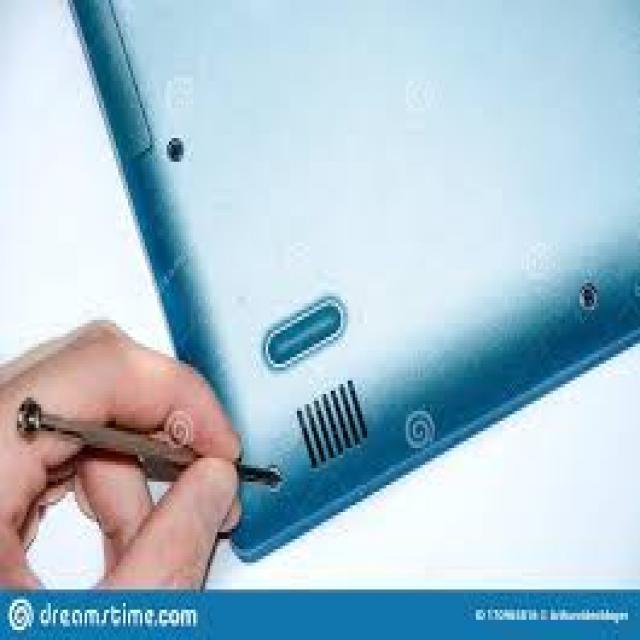screwdriver: (15, 394, 284, 485)
